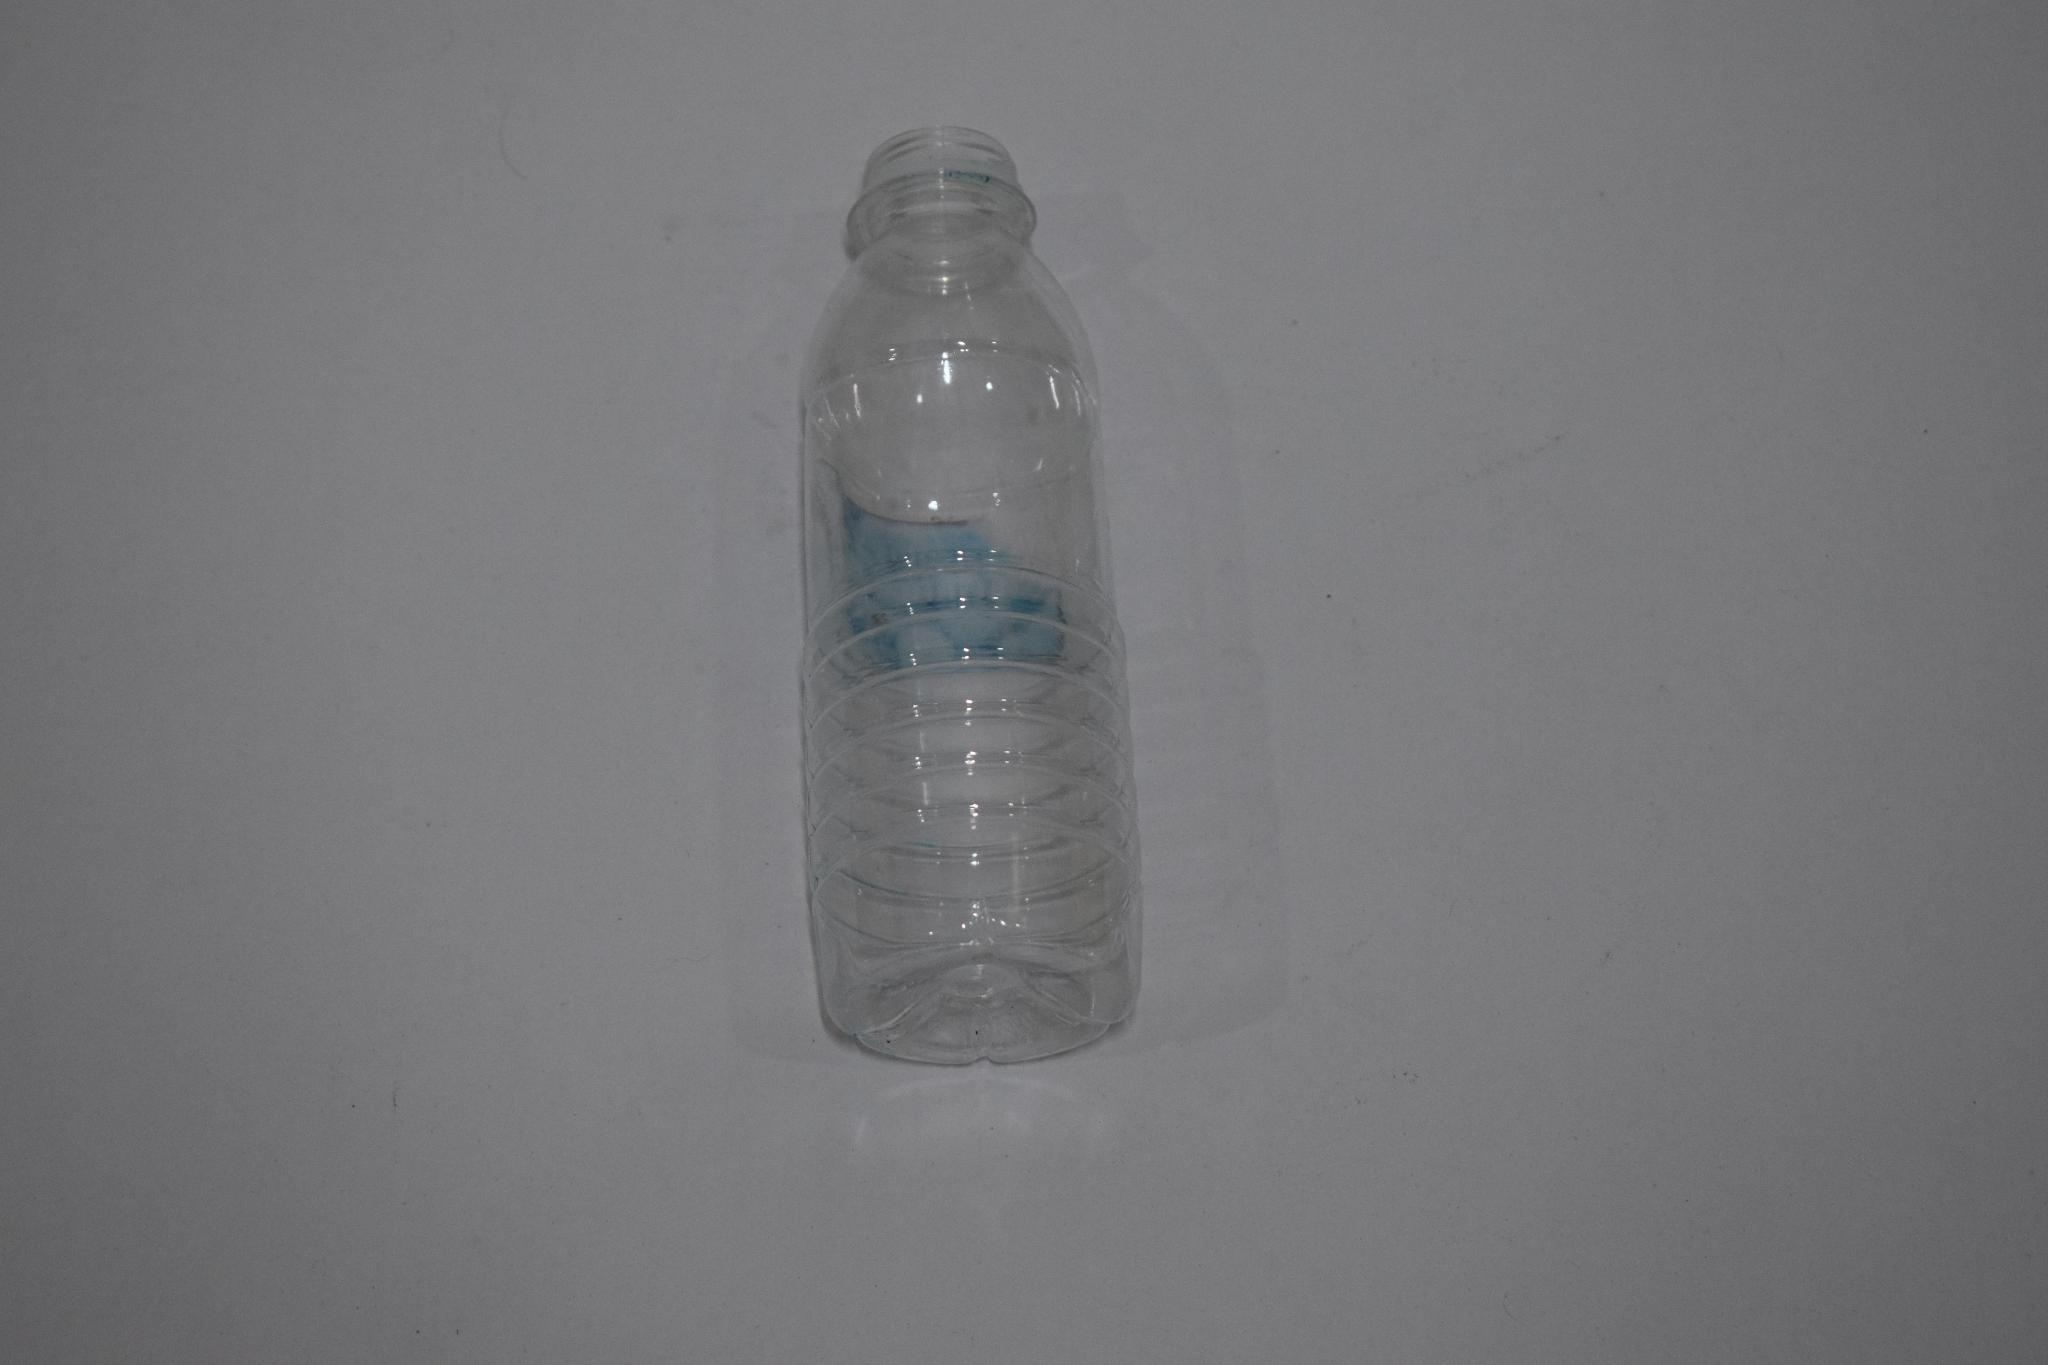bottle: (792, 117, 1142, 1075)
